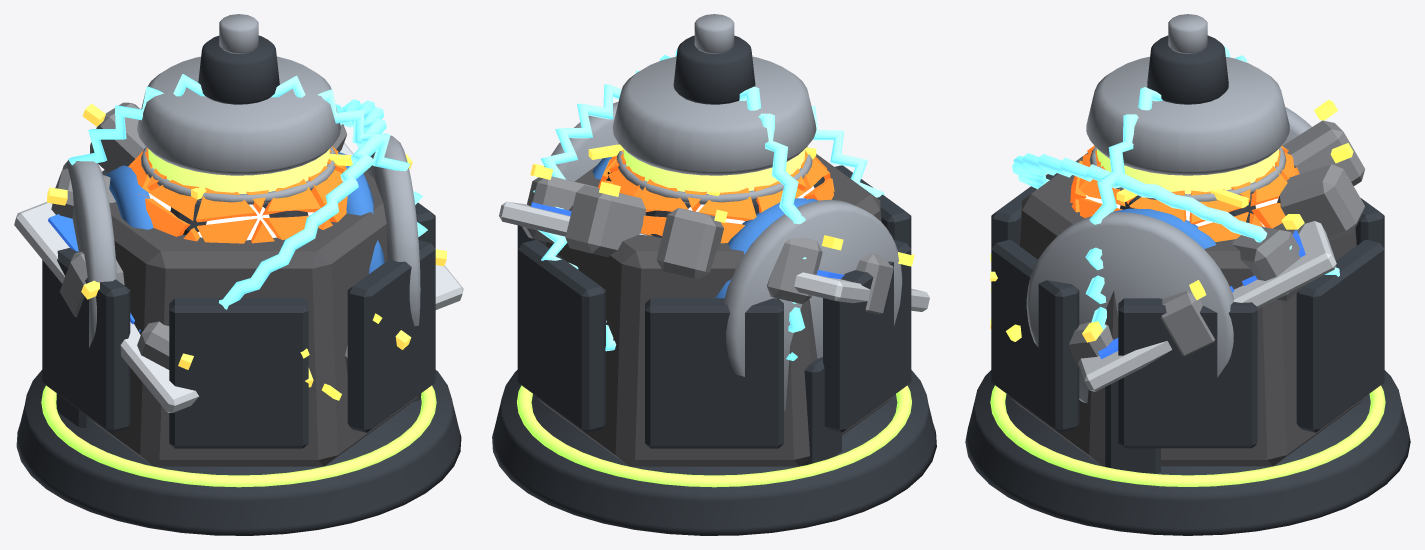
The model's file is sb_match3_centrale.glb.
3 renders of one model, left to right at view 1: azimuth 30°, elevation 25°; view 2: azimuth 150°, elevation 25°; view 3: azimuth 270°, elevation 25°, orthographic.
Visible parts, largest first — view 1: SB_MATCH3_TILE_CEN_ROCK, SB_MATCH3_TILE_CEN_CRISTAL, SB_MATCH3_TILE_CEN_ENERGIE, SB_MATCH3_TILE_CEN_METAL, SB_MATCH3_TILE_CEN_ARTEFACT, SB_MATCH3_TILE_CEN_BIOMASS, SB_MATCH3_TILE_CEN_ROCK_CRACKED; view 2: SB_MATCH3_TILE_CEN_ROCK, SB_MATCH3_TILE_CEN_CRISTAL, SB_MATCH3_TILE_CEN_METAL, SB_MATCH3_TILE_CEN_ARTEFACT, SB_MATCH3_TILE_CEN_ENERGIE, SB_MATCH3_TILE_CEN_BIOMASS, SB_MATCH3_TILE_CEN_ROCK_CRACKED; view 3: SB_MATCH3_TILE_CEN_ROCK, SB_MATCH3_TILE_CEN_CRISTAL, SB_MATCH3_TILE_CEN_METAL, SB_MATCH3_TILE_CEN_ARTEFACT, SB_MATCH3_TILE_CEN_ENERGIE, SB_MATCH3_TILE_CEN_BIOMASS, SB_MATCH3_TILE_CEN_ROCK_CRACKED.
Part boxes in pixels (bbox=[...]): SB_MATCH3_TILE_CEN_ROCK: bbox=[42, 166, 435, 466]; SB_MATCH3_TILE_CEN_CRISTAL: bbox=[16, 14, 461, 535]; SB_MATCH3_TILE_CEN_ENERGIE: bbox=[68, 74, 427, 309]; SB_MATCH3_TILE_CEN_METAL: bbox=[56, 135, 421, 427]; SB_MATCH3_TILE_CEN_ARTEFACT: bbox=[47, 102, 446, 387]; SB_MATCH3_TILE_CEN_BIOMASS: bbox=[14, 143, 463, 412]; SB_MATCH3_TILE_CEN_ROCK_CRACKED: bbox=[191, 154, 382, 400]; SB_MATCH3_TILE_CEN_ROCK: bbox=[517, 154, 911, 466]; SB_MATCH3_TILE_CEN_CRISTAL: bbox=[492, 14, 936, 535]; SB_MATCH3_TILE_CEN_METAL: bbox=[544, 102, 902, 465]; SB_MATCH3_TILE_CEN_ARTEFACT: bbox=[522, 163, 914, 314]; SB_MATCH3_TILE_CEN_ENERGIE: bbox=[533, 49, 884, 360]; SB_MATCH3_TILE_CEN_BIOMASS: bbox=[499, 201, 929, 311]; SB_MATCH3_TILE_CEN_ROCK_CRACKED: bbox=[588, 144, 816, 195]; SB_MATCH3_TILE_CEN_ROCK: bbox=[991, 152, 1384, 466]; SB_MATCH3_TILE_CEN_CRISTAL: bbox=[965, 14, 1410, 535]; SB_MATCH3_TILE_CEN_METAL: bbox=[1026, 107, 1311, 473]; SB_MATCH3_TILE_CEN_ARTEFACT: bbox=[990, 99, 1364, 370]; SB_MATCH3_TILE_CEN_ENERGIE: bbox=[1012, 46, 1339, 329]; SB_MATCH3_TILE_CEN_BIOMASS: bbox=[1078, 221, 1336, 391]; SB_MATCH3_TILE_CEN_ROCK_CRACKED: bbox=[990, 189, 1248, 329].
Bounding box in the file's own units: 0.48 × 0.5 × 0.48.
